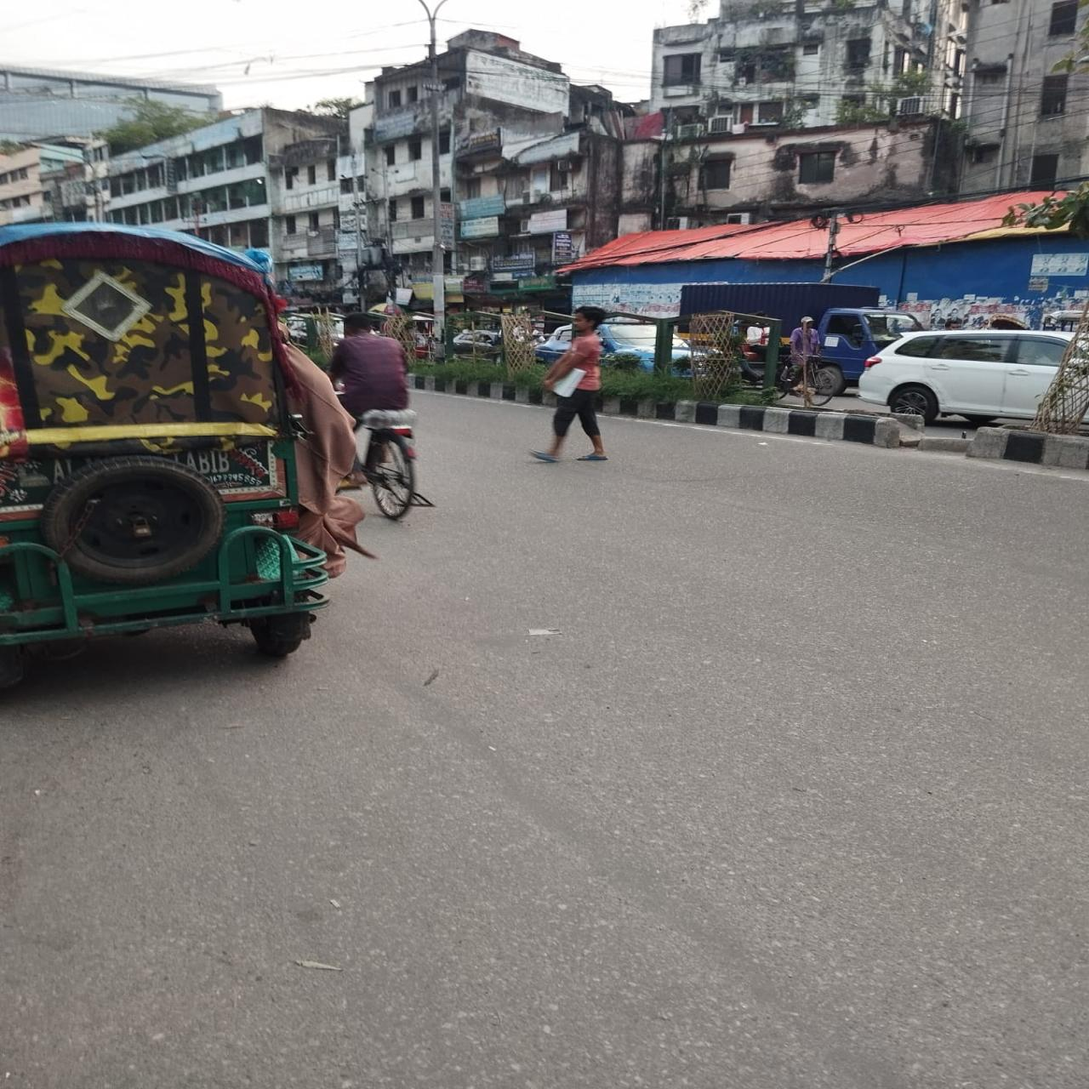person: (527, 305, 609, 464)
